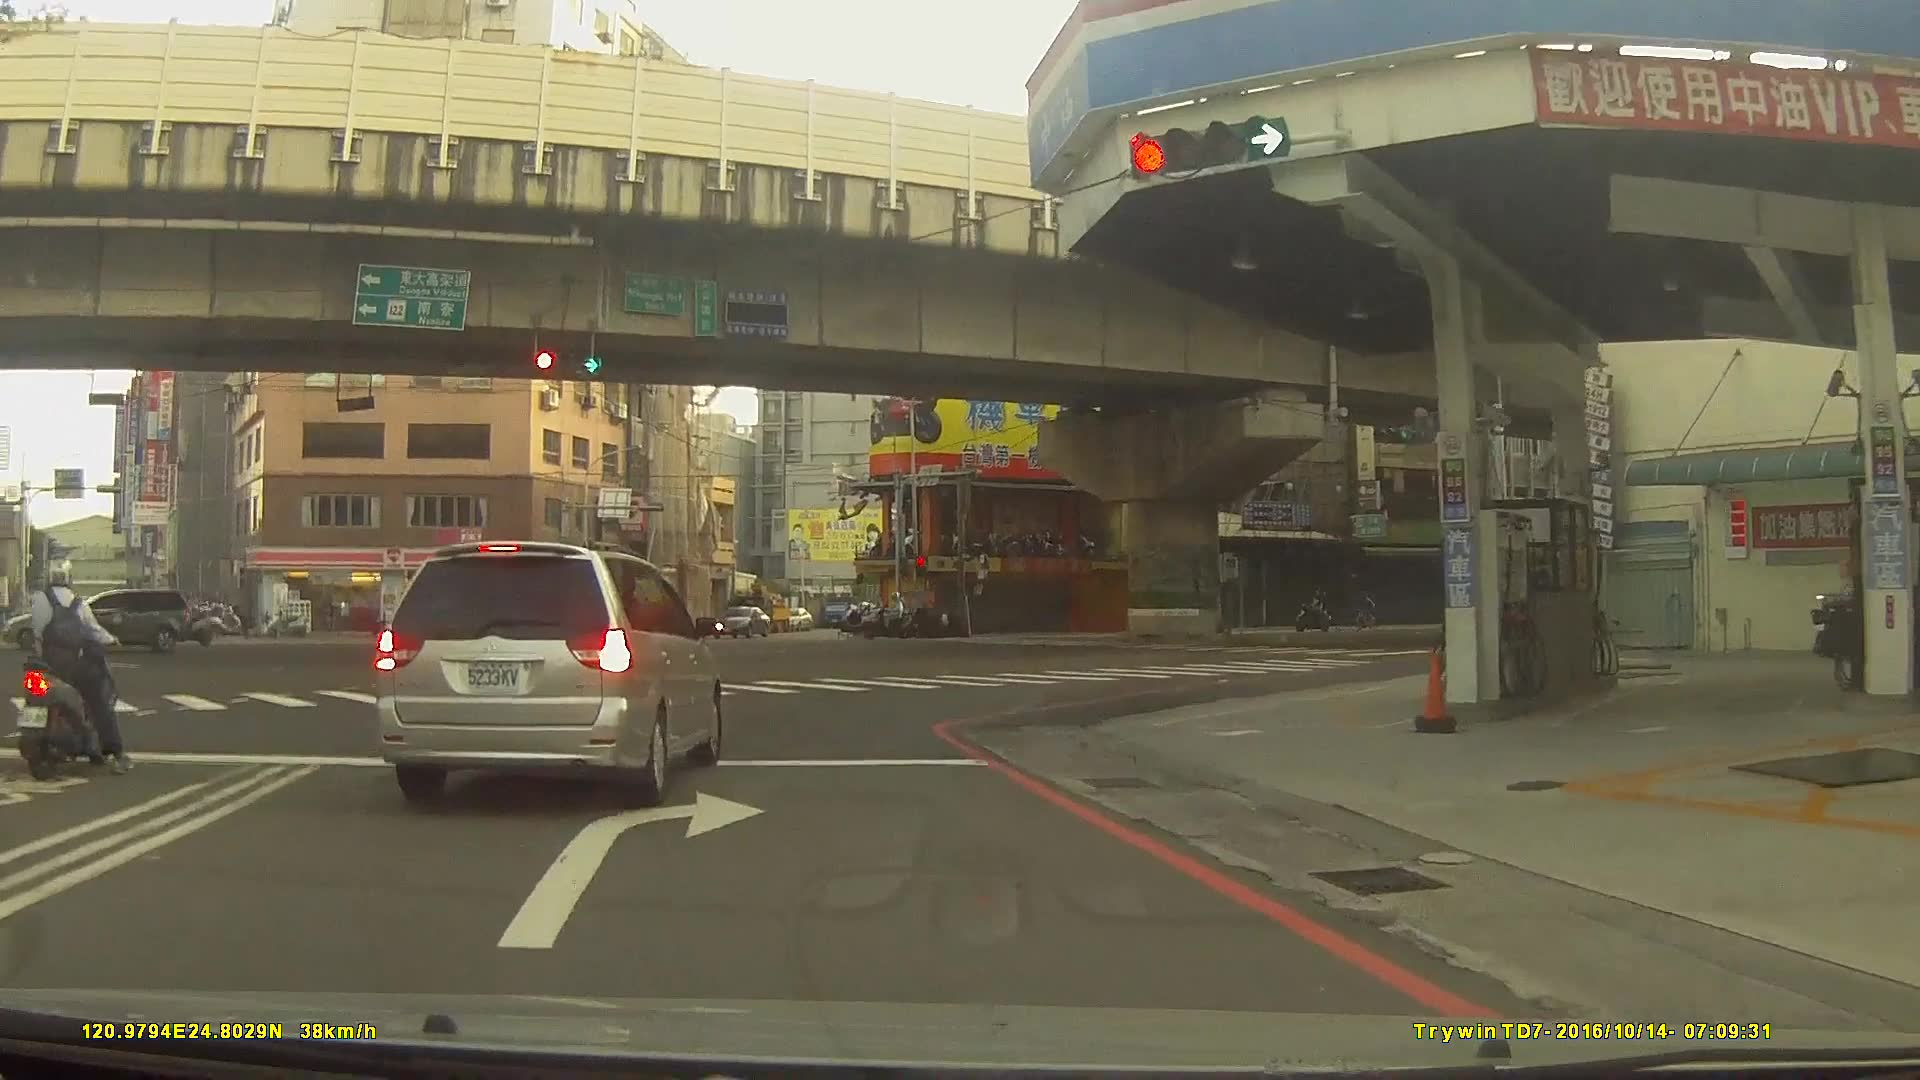rider: (10, 553, 129, 787), (169, 595, 225, 650), (867, 593, 913, 640)
vehicle: (369, 540, 719, 807), (44, 586, 194, 655), (715, 605, 772, 638), (543, 606, 605, 633)
